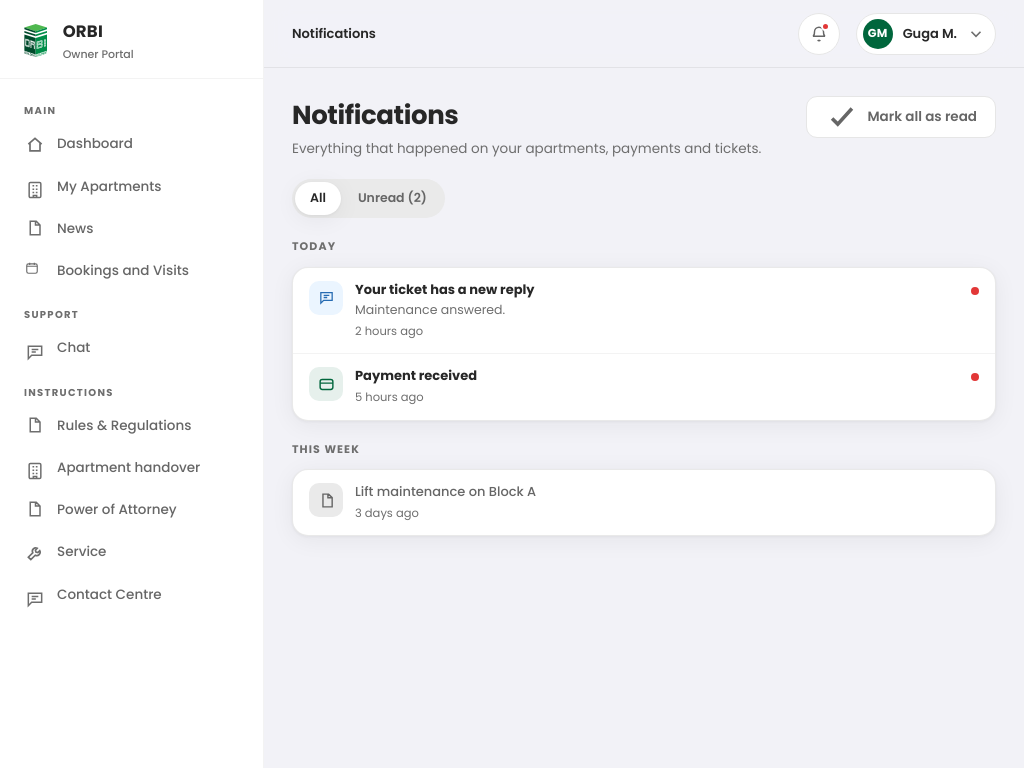
Test: the notifications page › the unread tab hides what has already been read
Check: the text "Lift maintenance on Block A" is shown, box [355,482,536,501]
Click the tab "Unread (2)". click: (392, 199)
box: [343,182,442,215]
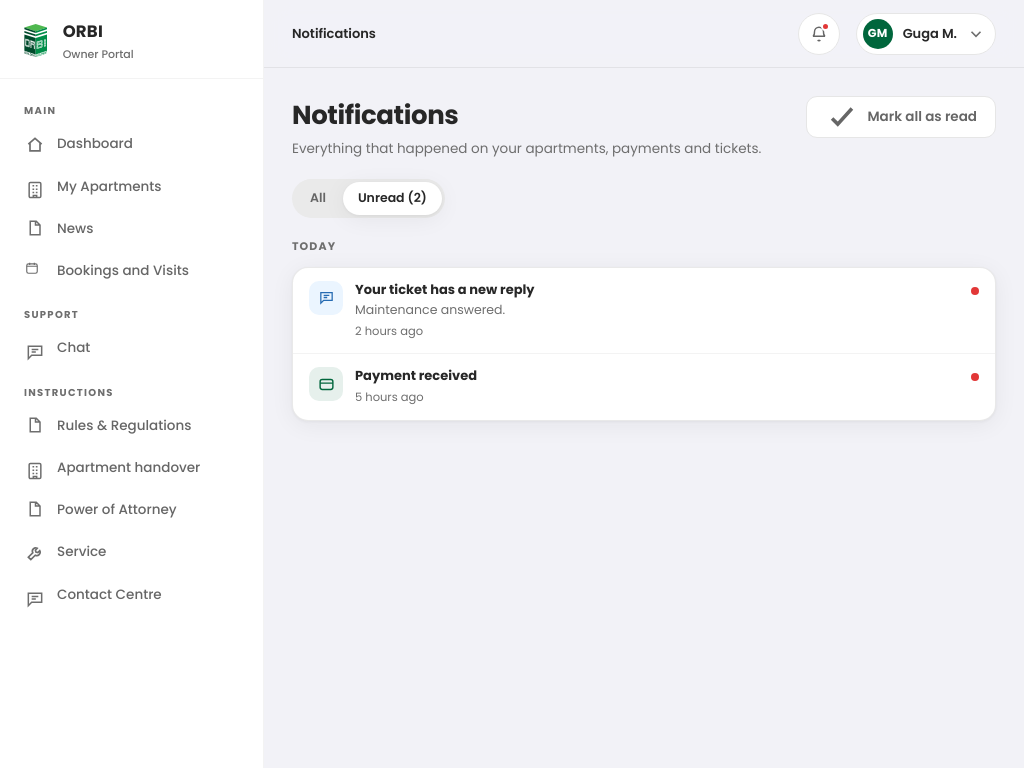
Check: the text "Payment received" is shown, box [355,366,477,385]
Check: the button "Lift maintenance on Block A" is gone
